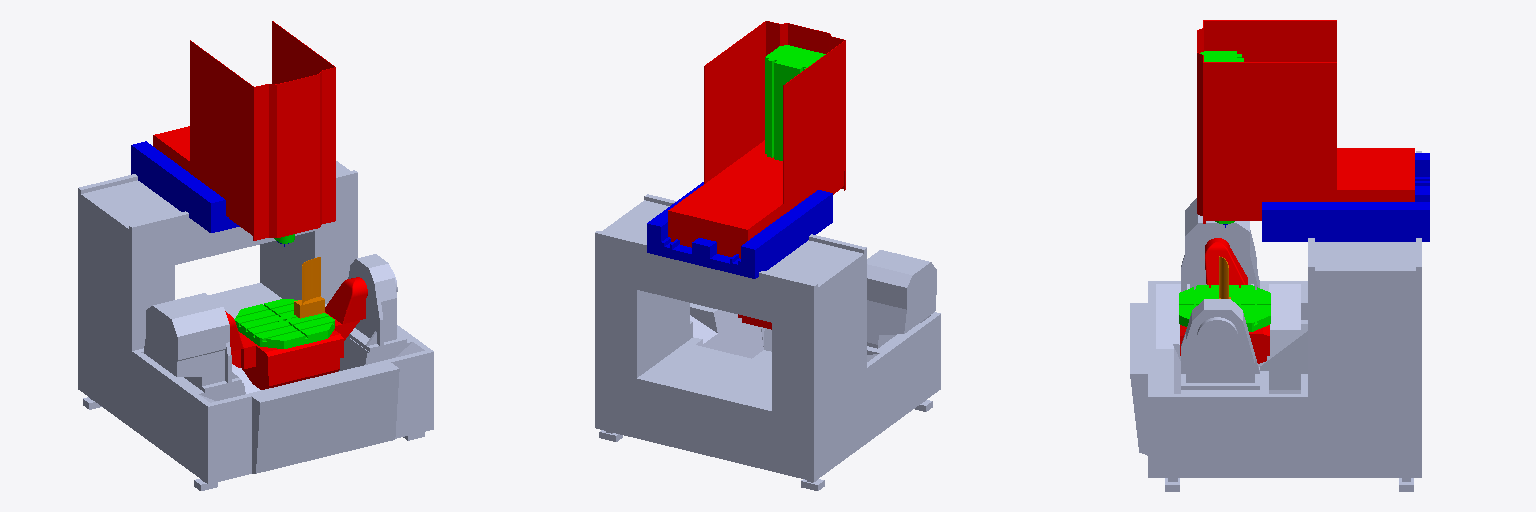
robot.urdf — tuopu:
 <robot name="tuopu">
	<link name="link_base">
		<visual>
		  <origin xyz="0. 0. 0." rpy="0. 0. 0." />
		  <geometry>
			<mesh filename="Geometry/A_TABLE_SURPORT.obj" scale="0.001 0.001 0.001" />
		  </geometry>
		  <material
			name="color0">
			<color rgba="0.792156862745098 0.819607843137255 0.933333333333333 0.8" />
		  </material>
		</visual>
		<collision>
          <origin rpy="0 0 0" xyz="0 0 0"/>
          <geometry>
            <mesh filename="Geometry/A_TABLE_SURPORT_vhacd.obj" scale="0.001 0.001 0.001" />
          </geometry>
        </collision>

		<visual>
		  <origin xyz="0. 0. 0." rpy="0. 0. 0." />
		  <geometry>
			<mesh filename="Geometry/BED.obj" scale="0.001 0.001 0.001" />
		  </geometry>
		  <material
			name="color0">
			<color rgba="0.792156862745098 0.819607843137255 0.933333333333333 0.8" />
		  </material>
		</visual>
		<collision>
          <origin rpy="0 0 0" xyz="0 0 0"/>
          <geometry>
            <mesh filename="Geometry/BED_vhacd.obj" scale="0.001 0.001 0.001" />
          </geometry>
        </collision>
    </link>

	<link name="link_X_axis">
		<visual>
		  <origin xyz="0. 0. 0." rpy="0. 0. 0." />
		  <geometry>
			<mesh filename="Geometry/X_AXIS.obj" scale="0.001 0.001 0.001" />
		  </geometry>
		  <material
			name="color3">
			<color rgba="0 0 1 0.8" />
		  </material>
		</visual>
		<collision>
          <origin xyz="0. 0. 0." rpy="0. 0. 0." />
          <geometry>
            <mesh filename="Geometry/X_AXIS_vhacd.obj" scale="0.001 0.001 0.001" />
          </geometry>
        </collision>
    </link>


	<joint name="machine_X" type="prismatic">
        <axis xyz="1 0 0"/>
        <parent link="link_base"/>
        <child link="link_X_axis"/>
        <origin rpy="0. 0. 0." xyz="0. 0. 0."/>
        <limit lower="-1.00" upper="1.00" effort="0" velocity="0" />
    </joint>

	<link name="link_Y_axis">
		<visual>
		  <origin xyz="0. 0. 0." rpy="0. 0. 0." />
		  <geometry>
			<mesh filename="Geometry/Y_Axis.obj" scale="0.001 0.001 0.001" />
		  </geometry>
		  <material
			name="color1">
		  </material>
		</visual>
		<collision>
          <origin xyz="0. 0. 0." rpy="0. 0. 0." />
          <geometry>
            <mesh filename="Geometry/Y_Axis_vhacd.obj" scale="0.001 0.001 0.001" />
          </geometry>
        </collision>
    </link>

	<joint name="machine_Y" type="prismatic">
        <axis xyz="0 1 0"/>
        <parent link="link_X_axis"/>
        <child link="link_Y_axis"/>
        <origin rpy="0. 0. 0." xyz="0. 0. 0."/>
        <limit lower="-1.00" upper="1.00" effort="0" velocity="0" />
    </joint>

	<link name="link_Z_axis">
		<visual>
		  <origin xyz="0. 0. 0." rpy="0. 0. 0." />
		  <geometry>
			<mesh filename="Geometry/Z_Axis.obj" scale="0.001 0.001 0.001" />
		  </geometry>
		  <material
			name="color2">
		  </material>
		</visual>
		<collision>
          <origin xyz="0. 0. 0." rpy="0. 0. 0." />
          <geometry>
            <mesh filename="Geometry/Z_Axis_vhacd.obj" scale="0.001 0.001 0.001" />
          </geometry>
        </collision>
    </link>

	<joint name="machine_Z" type="prismatic">
        <axis xyz="0 0 1"/>
        <parent link="link_Y_axis"/>
        <child link="link_Z_axis"/>
        <origin rpy="0. 0. 0." xyz="0. 0. 0."/>
        <limit lower="-1.00" upper="1.00" effort="0" velocity="0" />
    </joint>

	<link name="link_A_axis">
		<visual>
		  <origin xyz="0. +0.05 -.128" rpy="0. 0. 0." />
		  <geometry>
			<mesh filename="Geometry/A_TABLE.obj" scale="0.001 0.001 0.001" />
		  </geometry>
		  <material
			name="color1">
			<color rgba="1 0 0 0.8" />
		  </material>
		</visual>
		<collision>
          <origin xyz="0. +0.05 -.128" rpy="0. 0. 0." />
          <geometry>
            <mesh filename="Geometry/A_TABLE_vhacd.obj" scale="0.001 0.001 0.001" />
          </geometry>
        </collision>
    </link>

	<joint name="machine_A" type="revolute">
        <axis xyz="1 0 0"/>
        <parent link="link_base"/>
        <child link="link_A_axis"/>
        <origin rpy="0. 0. 0." xyz="0. -.05 .128"/>
        <limit lower="-3.14" upper="3.14" effort="0" velocity="0" />
    </joint>


    <link name="link_C_axis">
		<visual>
		  <origin xyz="0. 0. 0." rpy="0. 0. 0." />
		  <geometry>
			<mesh filename="Geometry/C_TABLE.obj" scale="0.001 0.001 0.001" />
		  </geometry>
		  <material
			name="color2">
			<color rgba="0 1 0 0.8" />
		  </material>
		</visual>
		<collision>
          <origin xyz="0. 0. 0." rpy="0. 0. 0." />
          <geometry>
            <mesh filename="Geometry/C_TABLE_vhacd.obj" scale="0.001 0.001 0.001" />
          </geometry>
        </collision>

		<visual>
		  <origin xyz="0.2 0 0." rpy="0. 0. 0." />
		  <geometry>
			<mesh filename="Geometry/workpiece.obj" scale="0.001 0.001 0.001" />
		  </geometry>
		  <material
			name="robot_orange">
			<color rgba="0.9137255 0.5137254 0. 1" />
		  </material>
		</visual>
		<collision>
          <origin xyz="0.2 0 0." rpy="0. 0. 0." />
          <geometry>
            <mesh filename="Geometry/workpiece_vhacd.obj" scale="0.001 0.001 0.001" />
          </geometry>
        </collision>
    </link>

	<joint name="machine_C" type="revolute">
        <axis xyz="0 0 1"/>
        <parent link="link_A_axis"/>
        <child link="link_C_axis"/>
        <origin rpy="0. 0. 0." xyz="0. +.05 -.128"/>
        <limit lower="-3.14" upper="3.14" effort="0" velocity="0" />
    </joint>

	<link name="link_S_axis">
		<visual>
		  <origin xyz="0. 0. 0." rpy="0. 0. 0." />
		  <geometry>
			<mesh filename="Geometry/Spindle.obj" scale="0.001 0.001 0.001" />
		  </geometry>
		  <material
			name="color3">
		  </material>
		</visual>
		<collision>
          <origin xyz="0. 0. 0." rpy="0. 0. 0." />
          <geometry>
            <mesh filename="Geometry/Spindle_vhacd.obj" scale="0.001 0.001 0.001" />
          </geometry>
        </collision>

		<visual>
		  <origin xyz="0. 0. 0.55" rpy="0. 0. 0." />
		  <geometry>
			<mesh filename="Geometry/cutter-M6-L50.obj" scale="0.001 0.001 0.001" />
		  </geometry>
		  <material
			name="color3">
		  </material>
		</visual>
		<collision>
          <origin xyz="0. 0. 0.55" rpy="0. 0. 0." />
          <geometry>
            <mesh filename="Geometry/cutter-M6-L50_vhacd.obj" scale="0.001 0.001 0.001" />
          </geometry>
        </collision>
    </link>

	<joint name="machine_S" type="continuous">
        <axis xyz="0 0 1"/>
        <parent link="link_Z_axis"/>
        <child link="link_S_axis"/>
        <origin rpy="0. 0. 0." xyz="0. 0. 0."/>
        <limit effort="0" velocity="0" />
    </joint>

	<link name="link_cutter">
		<visual>
		  <origin xyz="0. 0. 0." rpy="0. 0. 0." />
		  <geometry>
			<mesh filename="Geometry/cutter-M6-L50.obj" scale="0.001 0.001 0.001" />
		  </geometry>
		  <material
			name="color3">
		  </material>
		</visual>
		<collision>
          <origin xyz="0. 0. 0." rpy="0. 0. 0." />
          <geometry>
            <mesh filename="Geometry/cutter-M6-L50_vhacd.obj" scale="0.001 0.001 0.001" />
          </geometry>
        </collision>
    </link>

	<joint name="cutter_location" type="fixed">
        <axis xyz="0 0 1"/>
        <parent link="link_S_axis"/>
        <child link="link_cutter"/>
        <origin rpy="0. 0. 0." xyz="0. 0. 0.55"/>
        <limit effort="0" velocity="0" />
    </joint>



</robot>

--- Render facts (derived) ---
Views: 3 orthographic renders of the robot side by side, from view 1: azimuth 30°, elevation 25°; view 2: azimuth 150°, elevation 25°; view 3: azimuth 270°, elevation 25°.
Robot: tuopu — 8 links, 7 joints (2 revolute, 1 continuous, 3 prismatic, 1 fixed); root link link_base; default pose: all joints at 0.
Links seen in each view (by area): view 1: link_base, link_Y_axis, link_A_axis, link_C_axis, link_X_axis; view 2: link_base, link_Y_axis, link_X_axis, link_Z_axis; view 3: link_base, link_Y_axis, link_X_axis, link_C_axis, link_A_axis.
Link boxes in pixels (x1,y1,x2,y2): link_base: (78,161,433,490); link_Y_axis: (153,21,335,240); link_A_axis: (225,277,367,389); link_C_axis: (234,257,334,348); link_X_axis: (131,141,239,232); link_base: (595,194,940,490); link_Y_axis: (668,21,845,258); link_X_axis: (647,182,832,278); link_Z_axis: (765,45,825,160); link_base: (1130,151,1421,491); link_Y_axis: (1197,20,1414,223); link_X_axis: (1262,153,1429,241); link_C_axis: (1179,256,1270,331); link_A_axis: (1180,238,1269,363).
Size in the robot's own frame: 1.91 by 1.97 by 2.84 metres.
11 mesh visuals loaded from 10 distinct referenced files (10 OBJ).